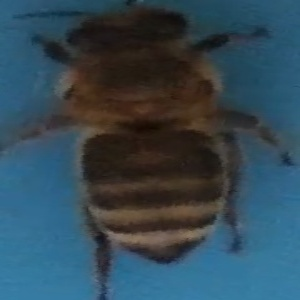bee: (10, 1, 295, 278)
